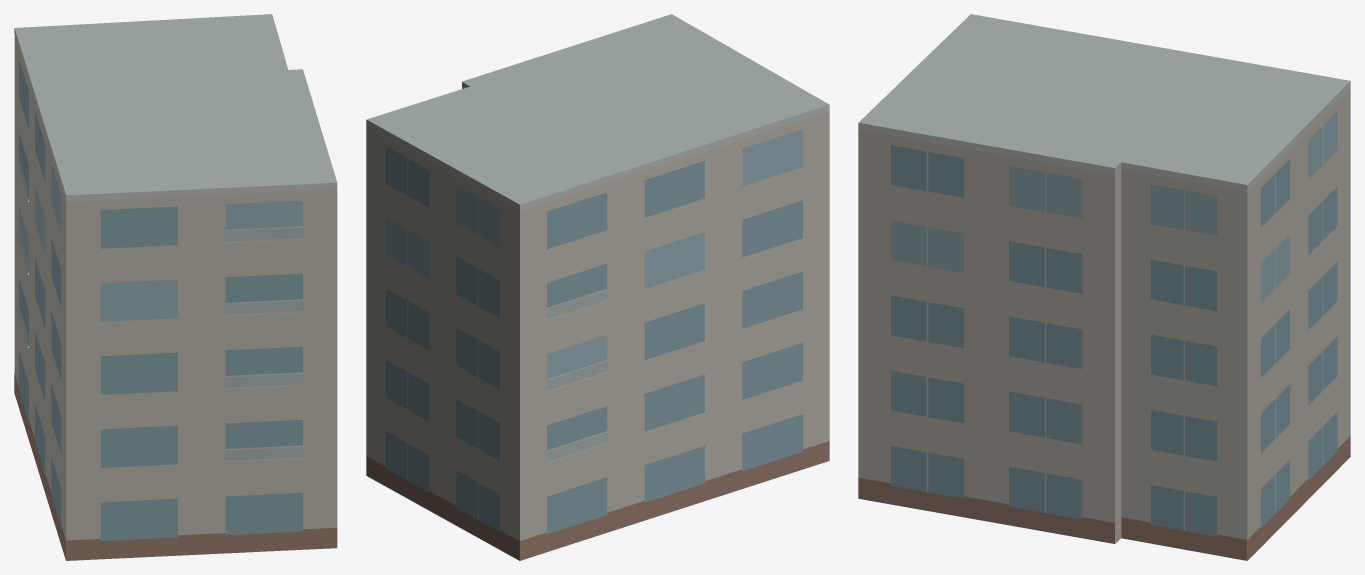
The model's file is survey-upis-32535285.glb.
The picture shows the model from 3 angles, left to right: view 1: azimuth 30°, elevation 25°; view 2: azimuth 150°, elevation 25°; view 3: azimuth 270°, elevation 25°; orthographic projection. The views are drawn at different scales.
Parts seen in each view (by area): view 1: survey-upis-32535285.tmp; view 2: survey-upis-32535285.tmp; view 3: survey-upis-32535285.tmp.
Part boxes in pixels (x1,y1,x2,y2): survey-upis-32535285.tmp: [14, 14, 337, 560]; survey-upis-32535285.tmp: [366, 14, 829, 560]; survey-upis-32535285.tmp: [858, 14, 1350, 560].
Size of the model in its own units: 12.88 by 13.2 by 15.68.
